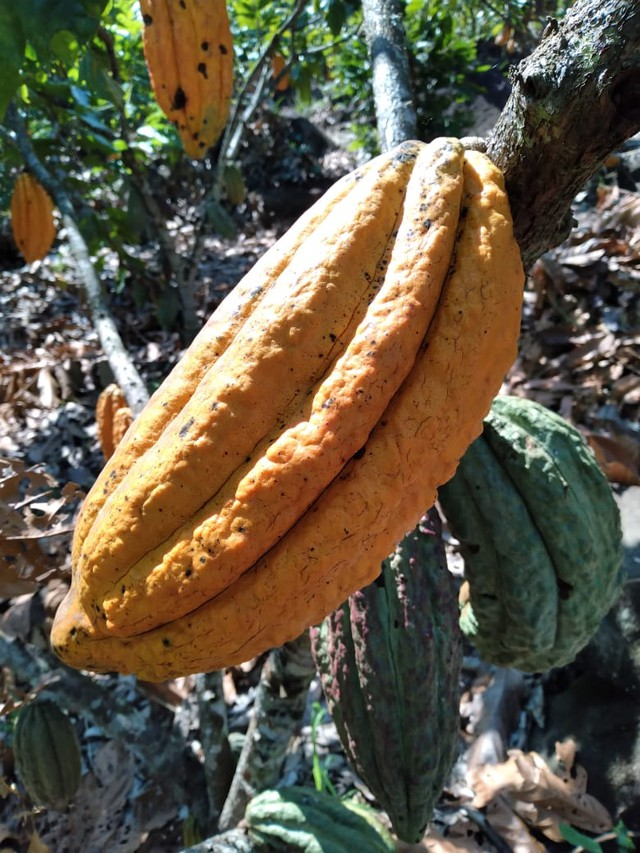Health: (43, 130, 534, 683)
